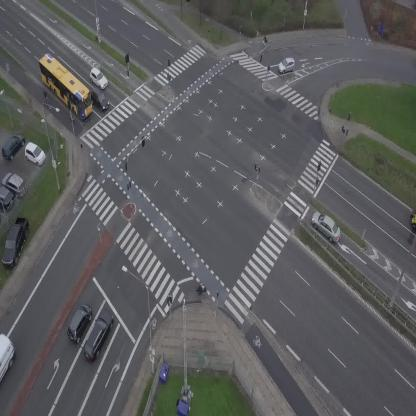bicycle: (195, 283, 208, 297), (42, 89, 49, 103), (260, 36, 269, 46)
bus: (31, 50, 101, 121)
car: (79, 305, 119, 364), (62, 301, 97, 346), (306, 208, 346, 245), (86, 87, 114, 114), (85, 66, 110, 91), (276, 56, 297, 75)
lorry: (0, 334, 14, 383), (411, 210, 416, 228)
